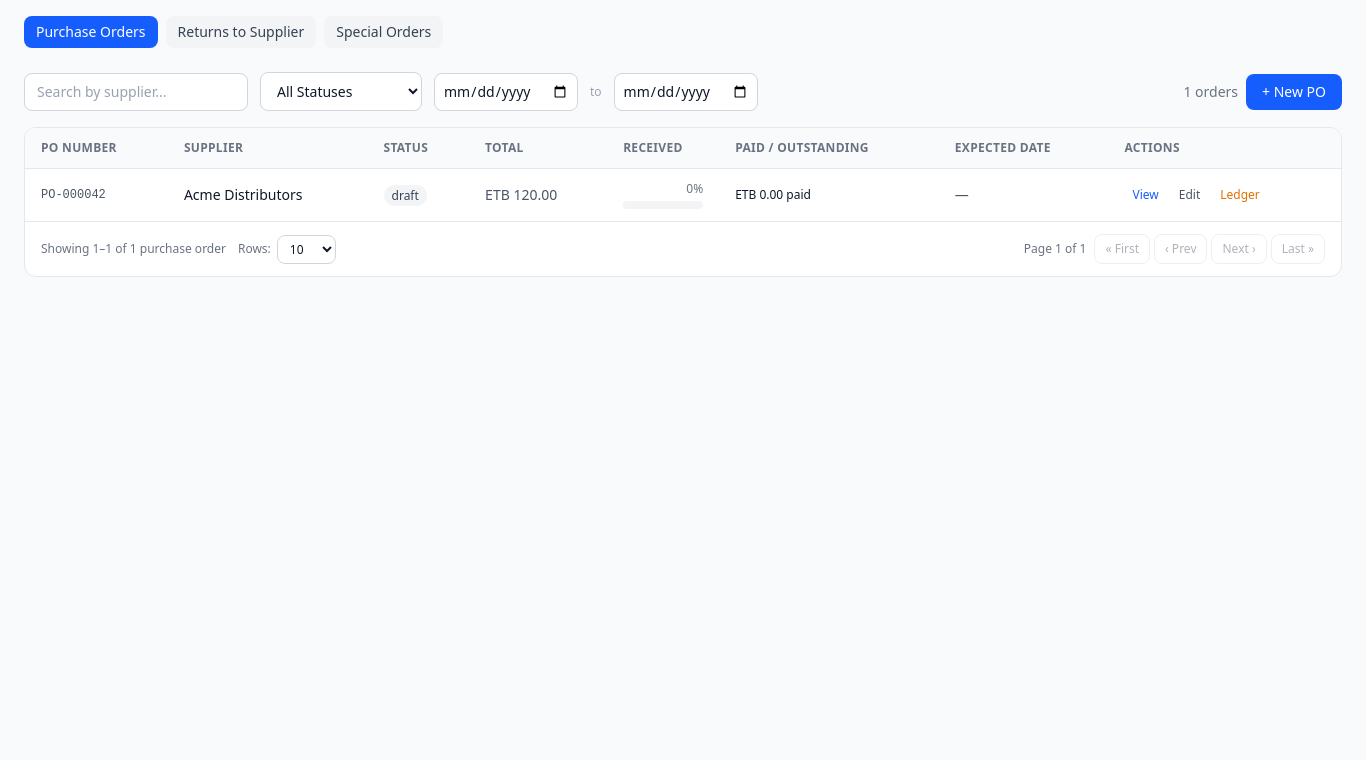
Test case: Procurement: the order form › offers only open branches to receive the goods (was: closed ones too, which the API refused)
Expected: the text "Acme Distributors" is shown, x1=168 y1=168 x2=368 y2=221
Click the button "+ New PO": (1294, 92) x1=1246 y1=74 x2=1342 y2=110
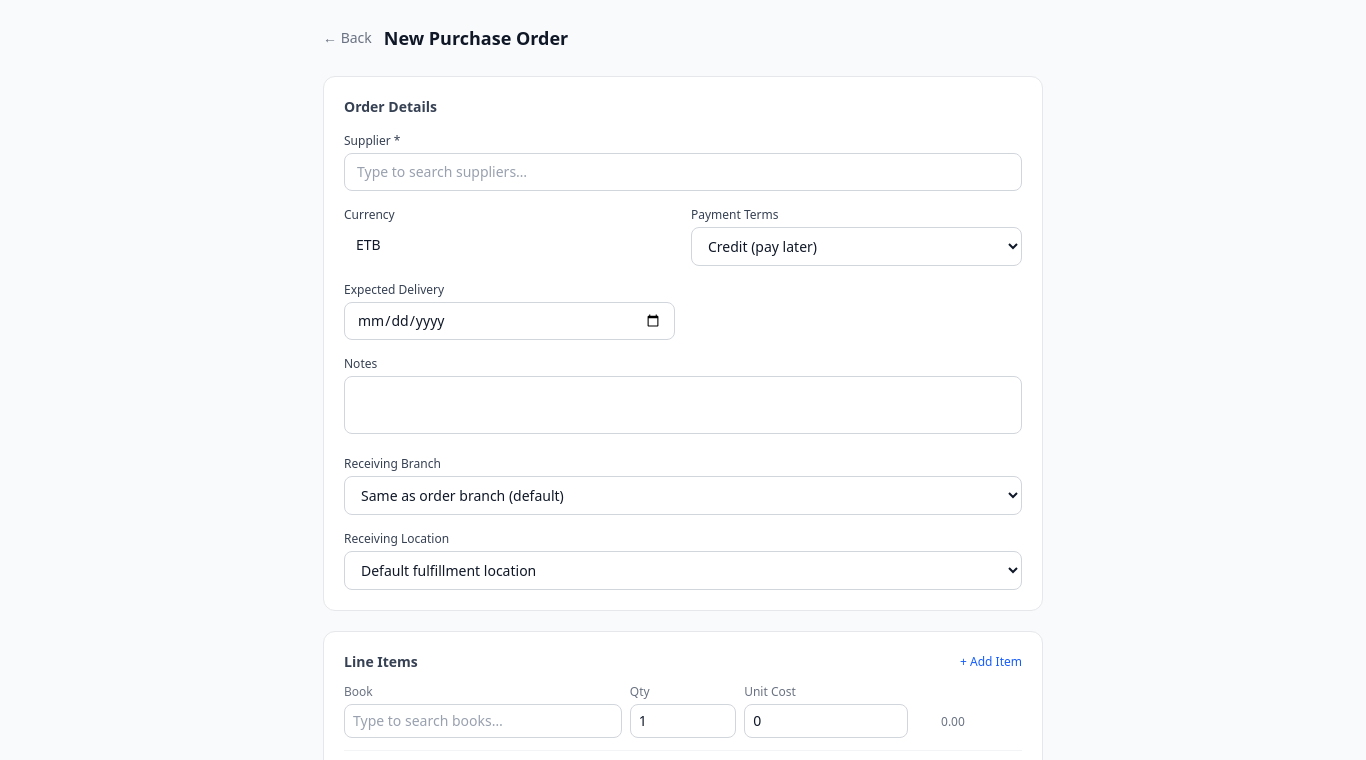
Expected: the heading "Line Items" is shown, x1=344 y1=652 x2=418 y2=672
